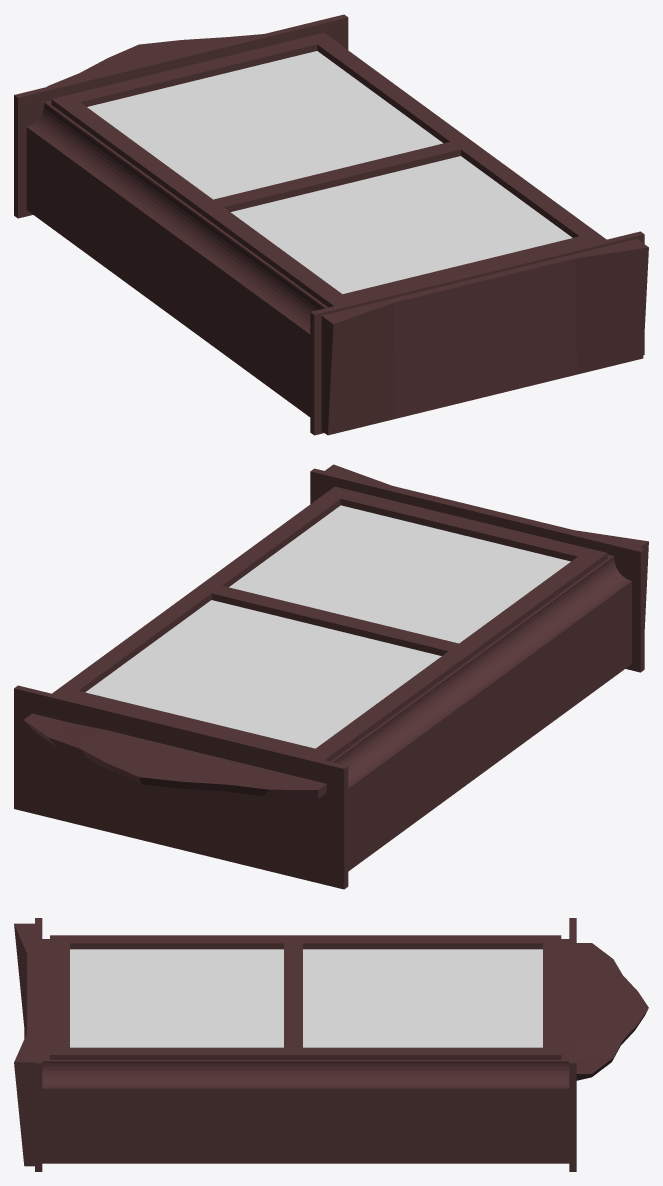
The model's file is clock.fbx.
The picture shows the model from 3 angles, top to bottom: view 1: azimuth 30°, elevation 25°; view 2: azimuth 150°, elevation 25°; view 3: azimuth 270°, elevation 25°; orthographic projection. The views are drawn at different scales.
Parts seen in each view (by area): view 1: Box; view 2: Box; view 3: Box.
Boxes of the visible parts, <box> form: Box: <box>14,14,648,435</box>; Box: <box>14,464,648,889</box>; Box: <box>14,918,648,1171</box>.
Size of the model in its own units: 319 by 111 by 588.
6 materials, 3 textured.
